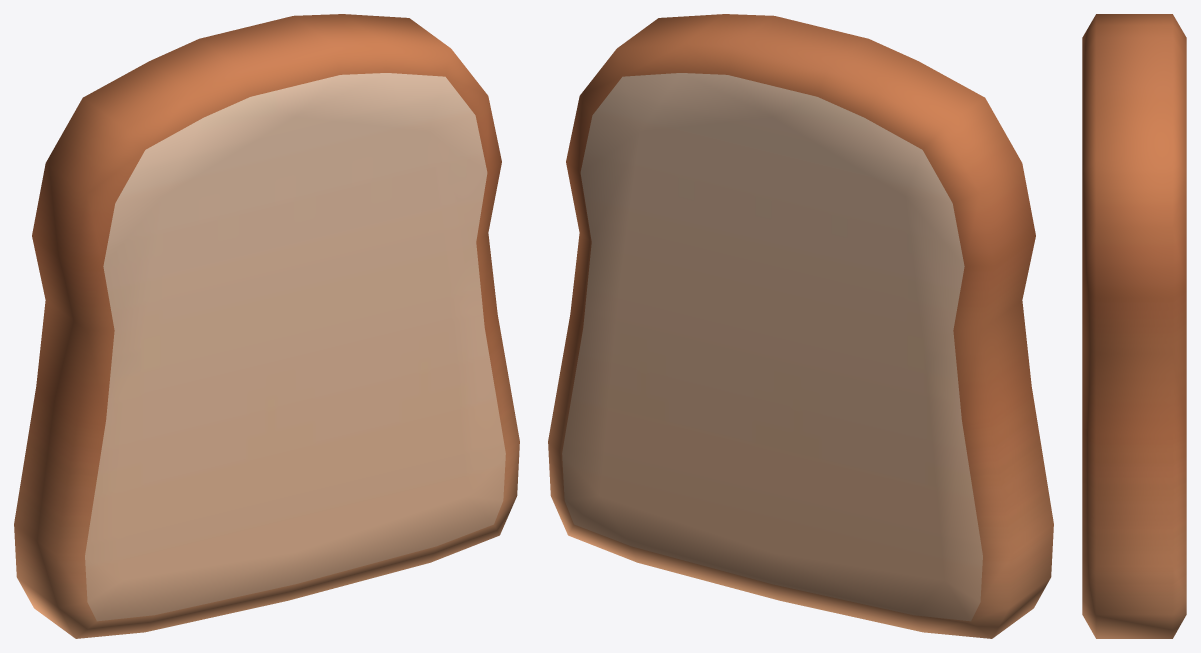
Rendered from BreadSlice-transformed.glb.
3 views of the same model, side by side, from view 1: azimuth 30°, elevation 25°; view 2: azimuth 150°, elevation 25°; view 3: azimuth 270°, elevation 25° (orthographic). The views are drawn at different scales.
Visible parts, largest first — view 1: bread_slice; view 2: bread_slice; view 3: bread_slice.
Part boxes in pixels (bbox=[...]): bread_slice: bbox=[14, 14, 519, 638]; bread_slice: bbox=[548, 14, 1053, 638]; bread_slice: bbox=[1082, 14, 1186, 638].
Bounding box in the file's own units: 0.4612 × 0.5155 × 0.0979.
Materials: 1 (1 with a texture image).
